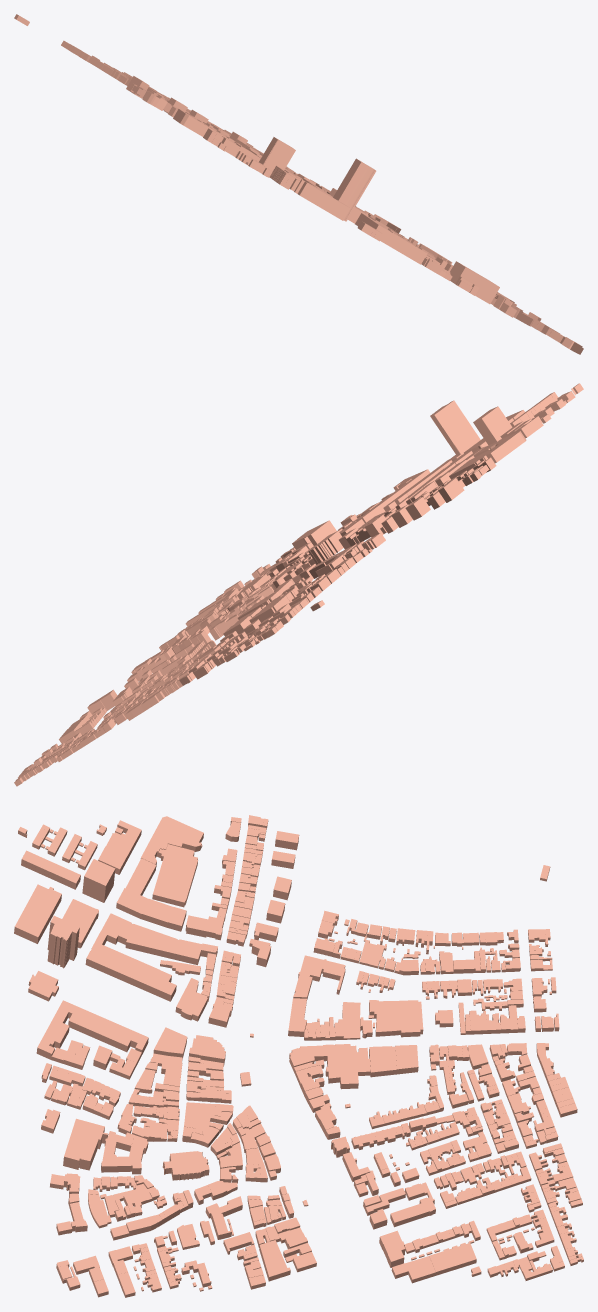
3 views of the same model, one above another, from view 1: azimuth 30°, elevation 25°; view 2: azimuth 150°, elevation 25°; view 3: azimuth 270°, elevation 25° (orthographic). The views are drawn at different scales.
Size of the model in its own units: 496 by 386 by 653.
